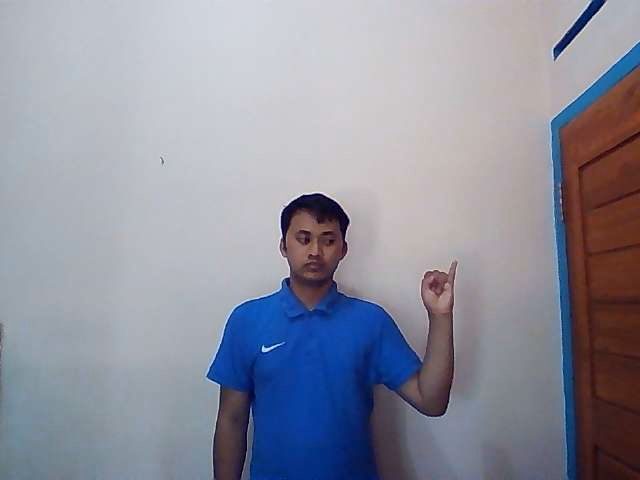I: (420, 258, 458, 314)
